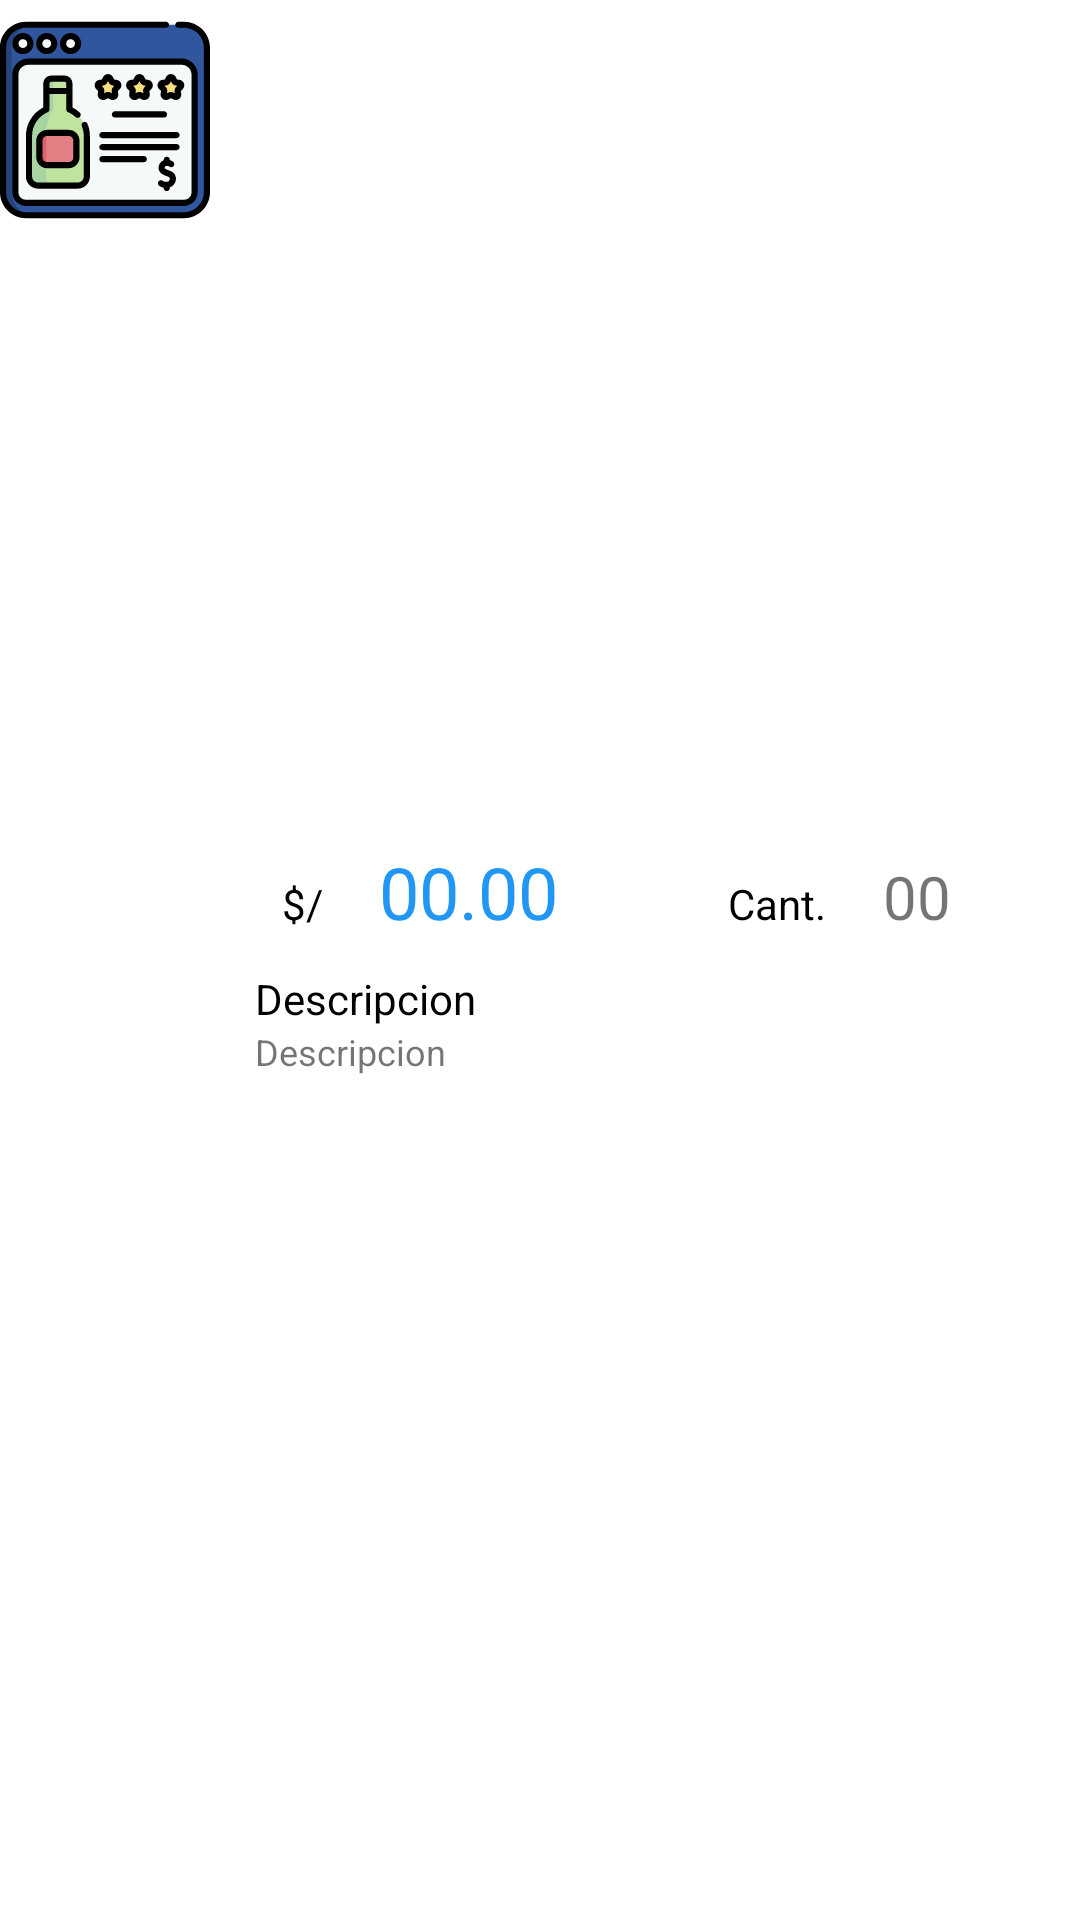

Icon bounding boxes for this 1080 x 1920 phone screenshot, format bbox=(x1, y1, x2, y2):
producto nuevo: bbox=(0, 21, 210, 219)
